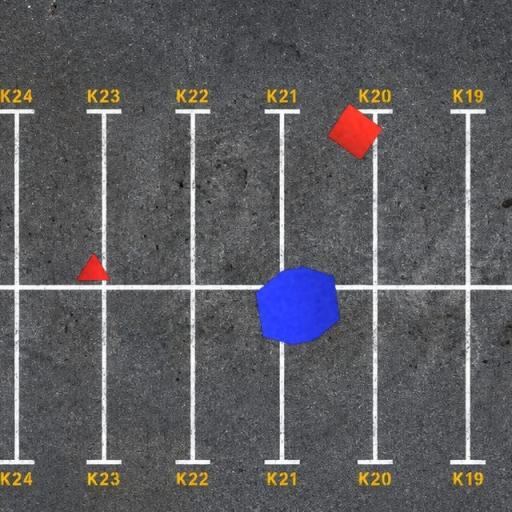RED_SQUARE: (326, 102, 384, 161)
